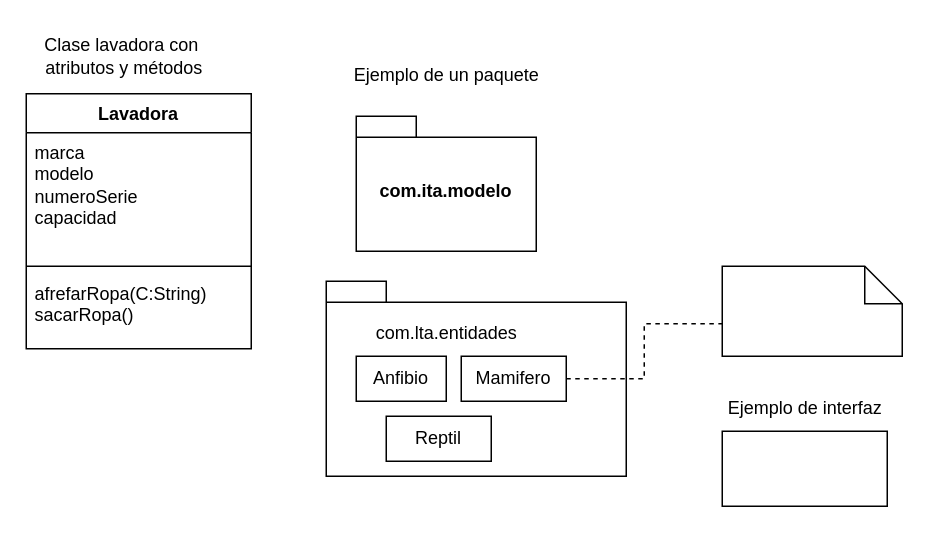
Some shapes in this 929 by 533 pixel diagram are drawn without their labels. Here are the shapes that lost their labels. From the top down, the centre of each, then its label:
At (811,310): "Esto es una clase dentro de un paquete".
At (804,468): "«interface» Formulario".
